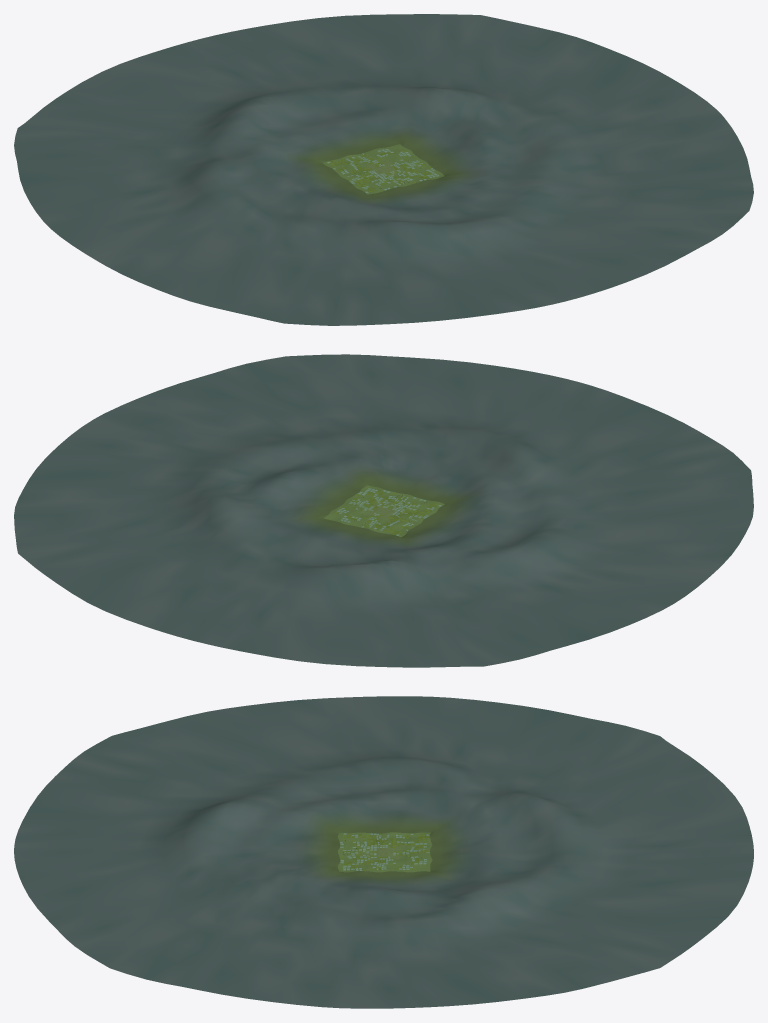
File: terrain.glb
3 views of the same model, one above another, from view 1: azimuth 30°, elevation 25°; view 2: azimuth 150°, elevation 25°; view 3: azimuth 270°, elevation 25° (orthographic). The views are drawn at different scales.
Parts seen in each view (by area): view 1: distant_mountains, rice_country_ground, flooded_rice_plots, planted_rice_plots; view 2: distant_mountains, rice_country_ground, planted_rice_plots, flooded_rice_plots; view 3: distant_mountains, rice_country_ground, planted_rice_plots, flooded_rice_plots.
Boxes of the visible parts, x1,y1,x2,y2 form: distant_mountains: (14, 14, 753, 325); rice_country_ground: (322, 144, 444, 194); flooded_rice_plots: (327, 149, 439, 192); planted_rice_plots: (329, 149, 431, 192); distant_mountains: (14, 354, 753, 667); rice_country_ground: (324, 485, 444, 537); planted_rice_plots: (334, 490, 438, 534); flooded_rice_plots: (336, 488, 441, 535); distant_mountains: (14, 696, 753, 1008); rice_country_ground: (338, 832, 432, 872); planted_rice_plots: (340, 833, 429, 870); flooded_rice_plots: (340, 833, 429, 870).
Bounding box in the file's own units: 4157 × 120 × 4159.
9 materials, 6 textured.
